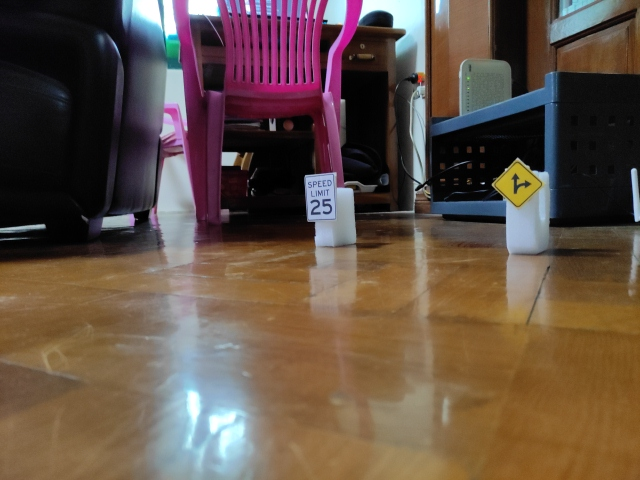Speed Limit 25: (303, 172, 337, 223)
Straight Or Right Sign: (493, 159, 544, 210)
